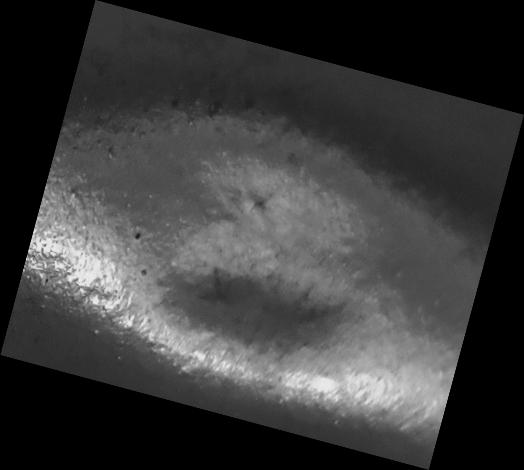dent: (1, 0, 524, 469)
